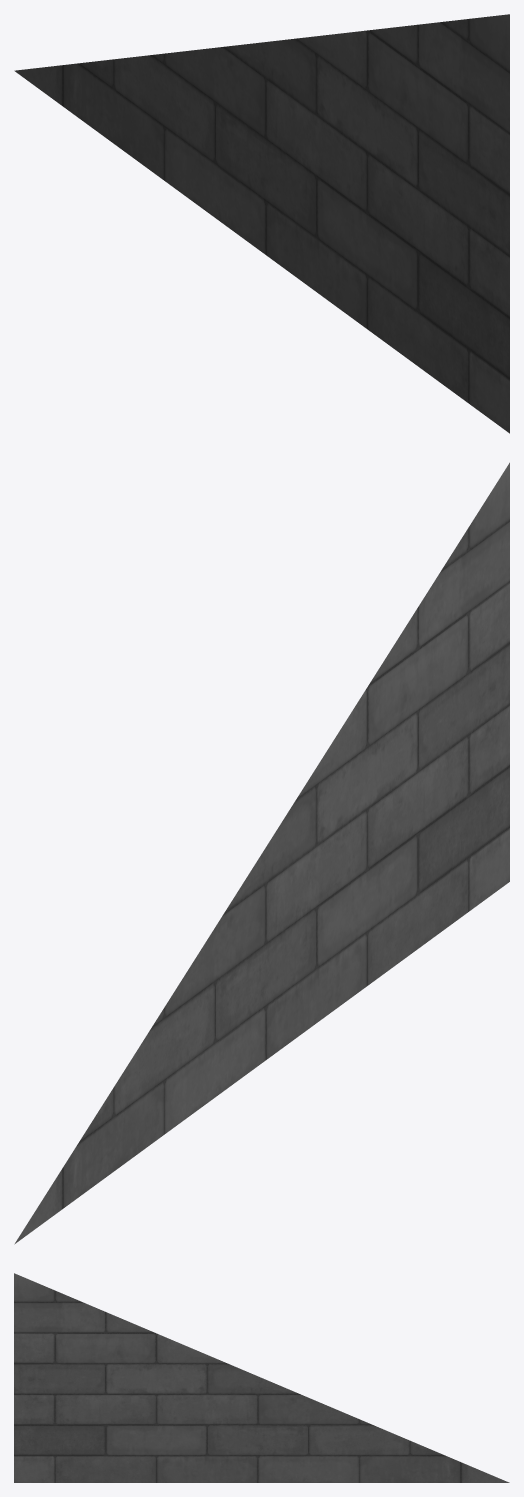
The model's file is SM_Roof_02_End_Edge.fbx.
3 renders of one model, top to bottom at view 1: azimuth 30°, elevation 25°; view 2: azimuth 150°, elevation 25°; view 3: azimuth 270°, elevation 25°, orthographic. The views are drawn at different scales.
Visible parts, largest first — view 1: SM_Roof_02_End_Edge_LOD0; view 2: SM_Roof_02_End_Edge_LOD0; view 3: SM_Roof_02_End_Edge_LOD0.
Part boxes in pixels (x1,y1,x2,y2): SM_Roof_02_End_Edge_LOD0: [14, 14, 509, 433]; SM_Roof_02_End_Edge_LOD0: [14, 462, 509, 1244]; SM_Roof_02_End_Edge_LOD0: [14, 1273, 509, 1482].
Size of the model in its own units: 1.24e-05 by 150 by 70.
